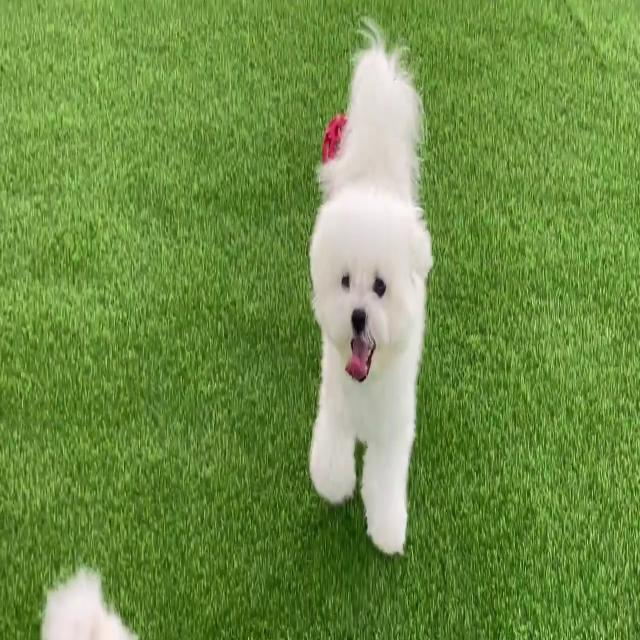Dog: (310, 14, 434, 556)
